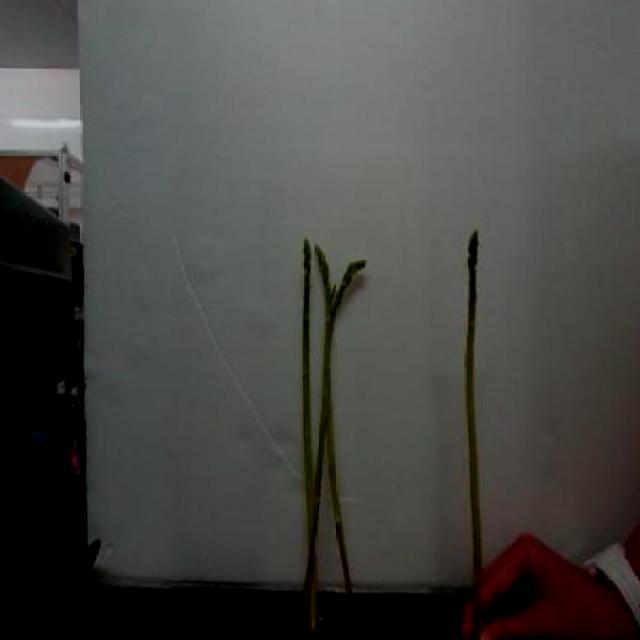aspargus: (300, 258, 367, 639), (465, 231, 484, 640)
